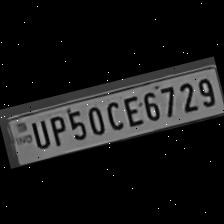0: (82, 102, 108, 138)
2: (173, 77, 199, 114)
5: (61, 105, 88, 144)
6: (137, 86, 162, 122)
7: (155, 82, 179, 119)
9: (191, 72, 218, 110)
C: (100, 96, 125, 132)
E: (118, 92, 142, 128)
P: (42, 110, 68, 148)
U: (26, 116, 50, 151)
